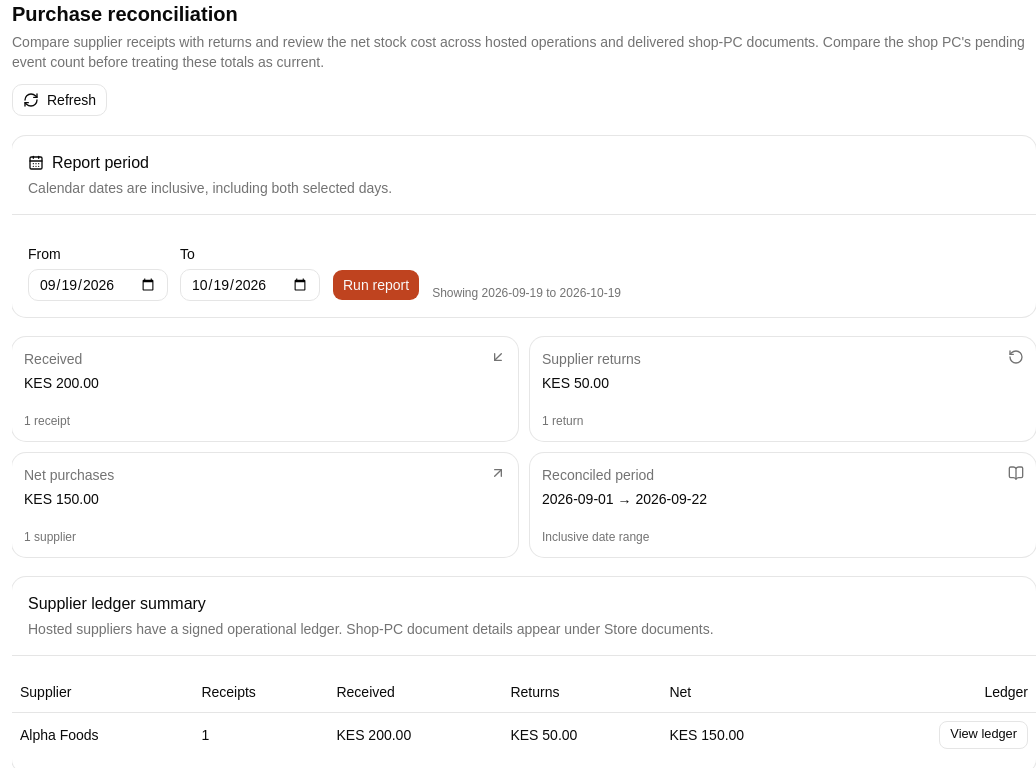
Test case: renders reconciliation totals and opens the selected supplier ledger
Expected: the text "Net purchases" is shown, [24,465,114,485]
Click the button "View ledger": (984, 734) [939,720,1028,748]
(page scrolled)
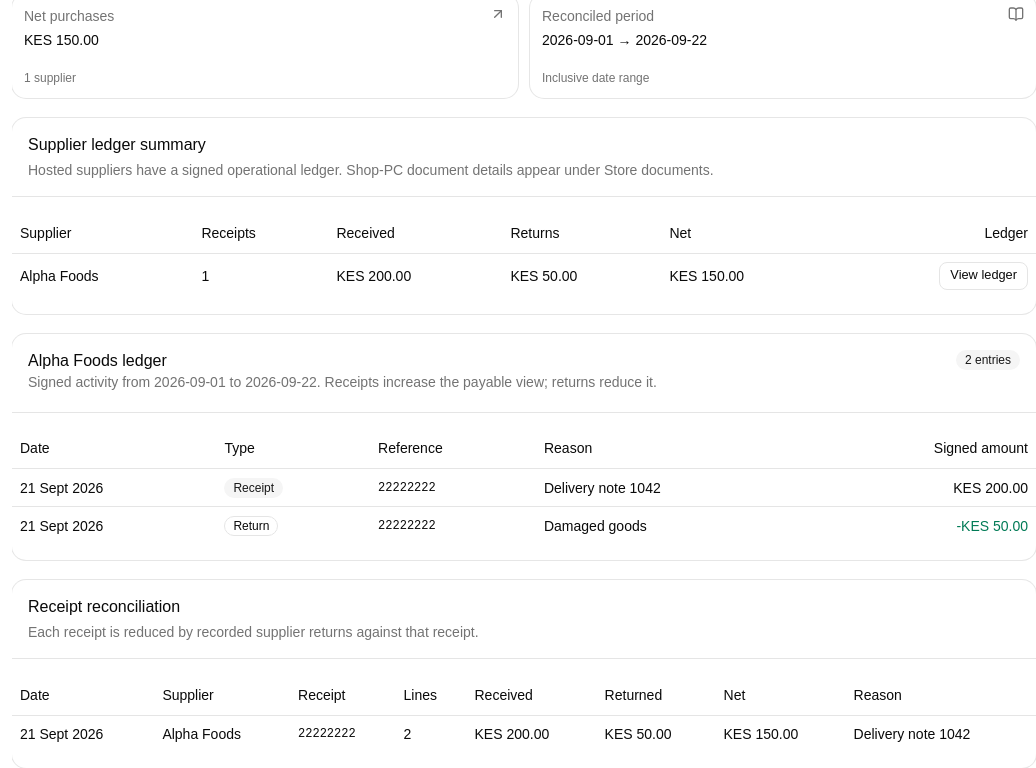
Expected: the text "Alpha Foods ledger" is shown, [28,352,167,368]
Expected: the text "Damaged goods" is shown, [536,506,809,544]
